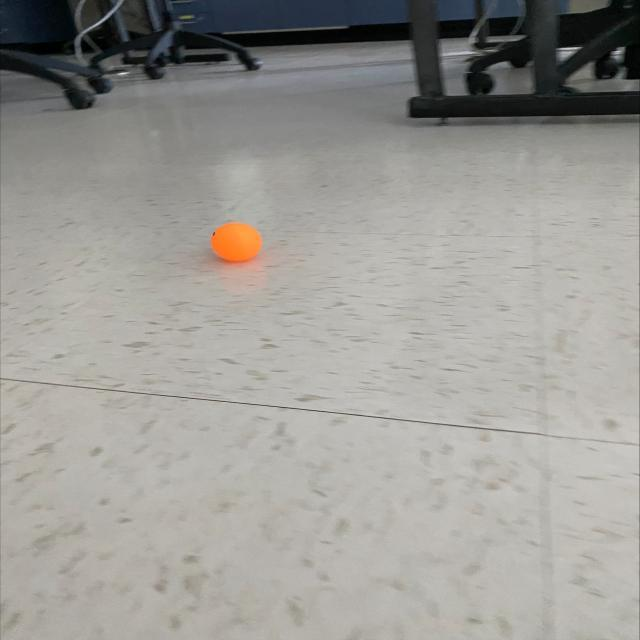ping-pong-ball: (208, 220, 266, 264)
